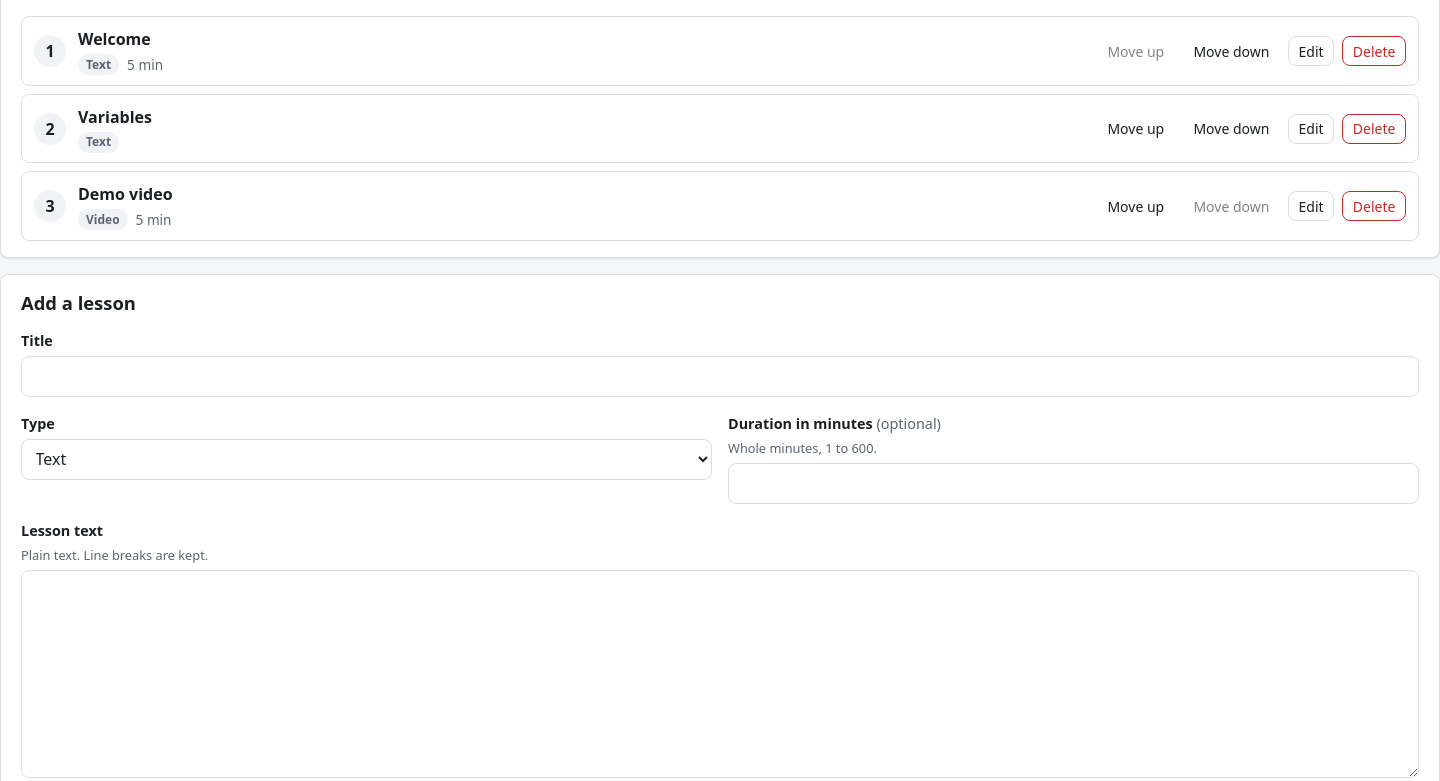
Test case: EditCoursePage › adds a valid video lesson
The width and height of the screenshot is (1440, 781).
(page scrolled)
In the field labelled "Title": [720, 377] box [21,356,1419,397], type "Generics"
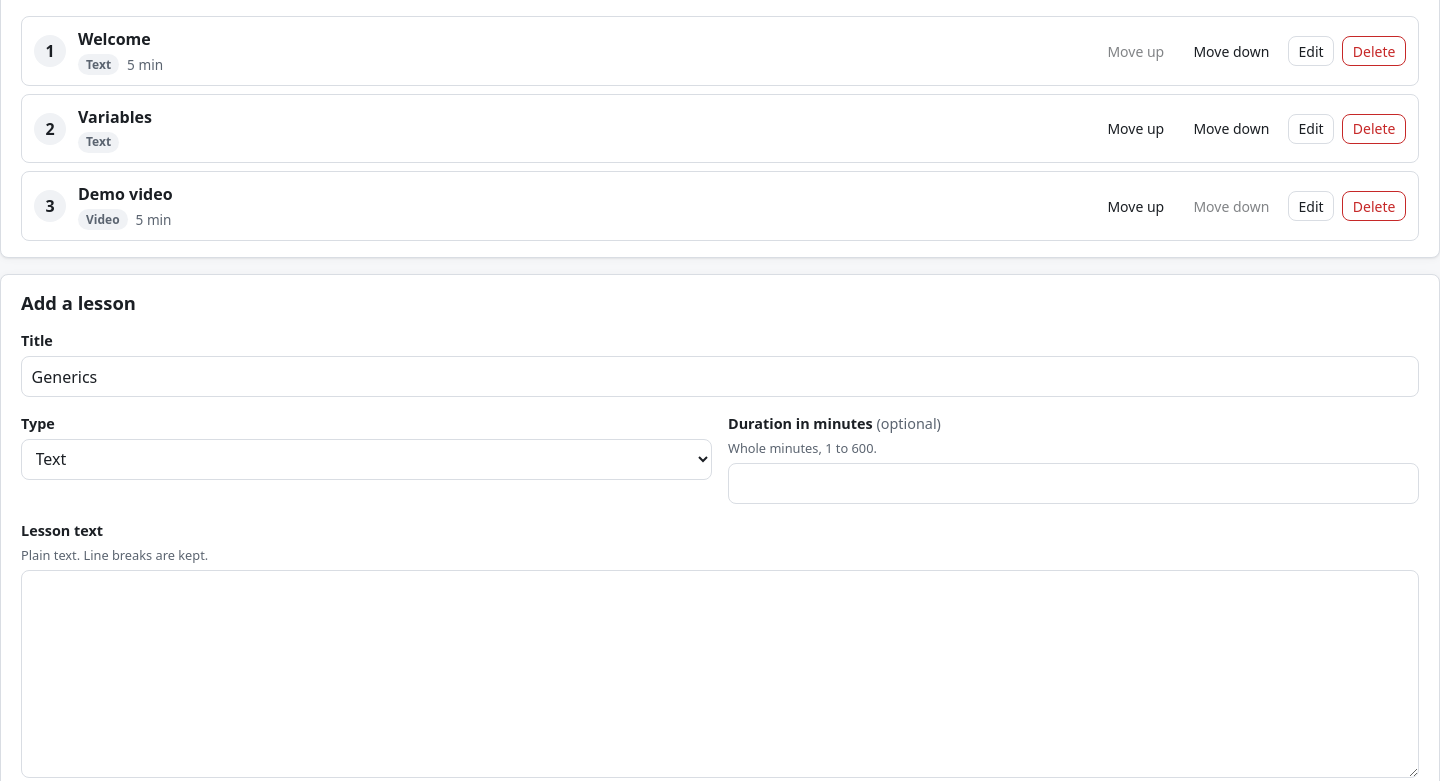
Select "Video" in the dropdown labelled "Type": [366, 459] box [21,439,712,480]
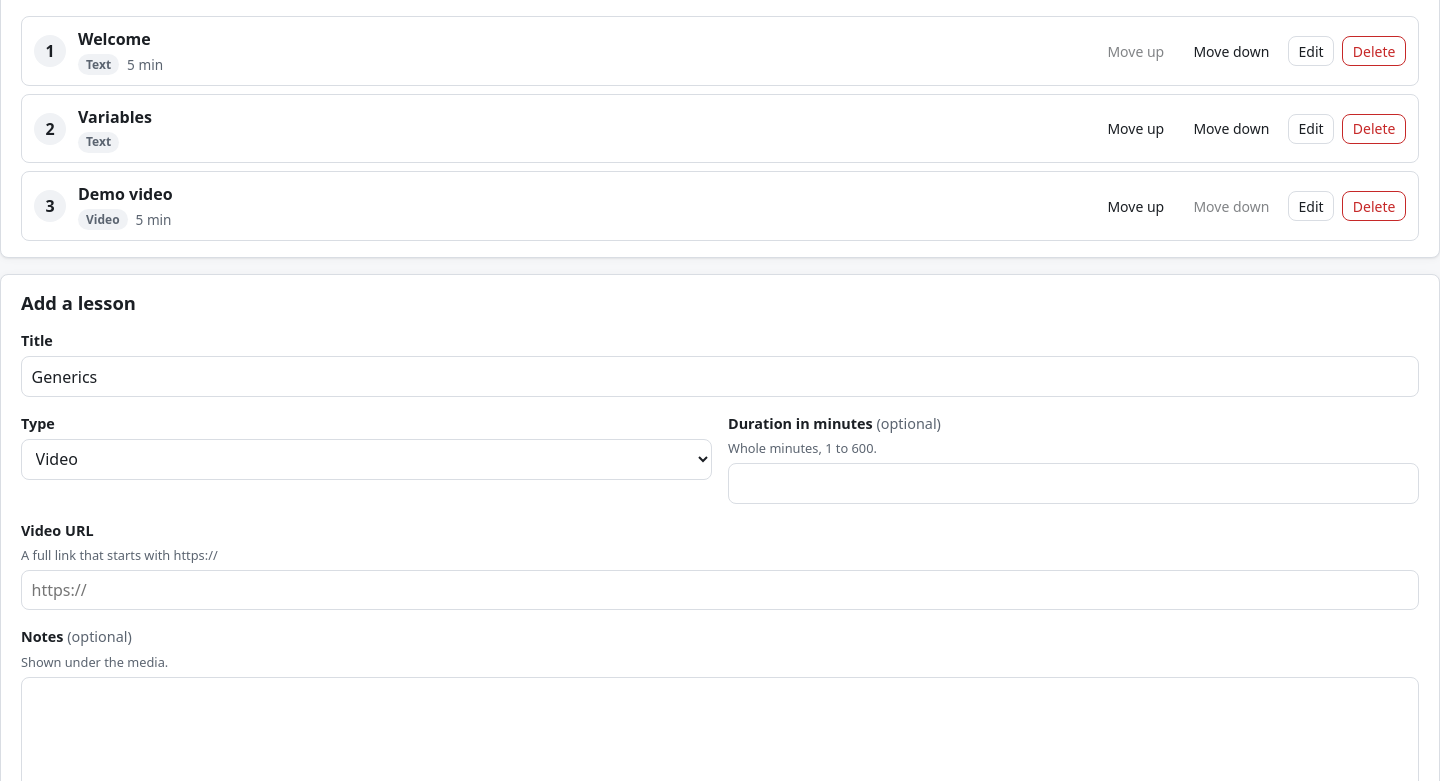
In the field labelled "Video URL": [720, 590] box [21,570,1419,610], type "https://example.com/clip.mp4"
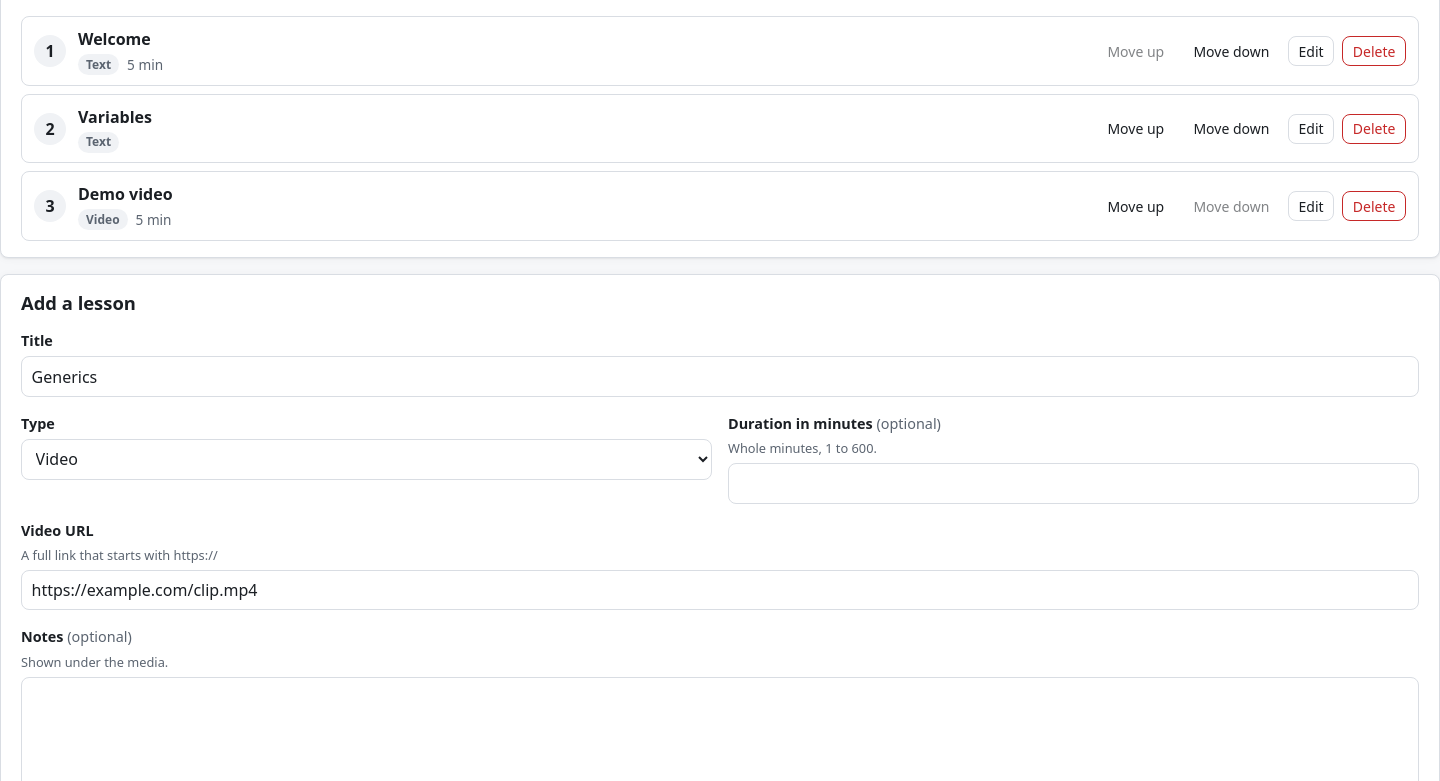
In the field labelled "Duration in minutes (optional)": [1074, 483] box [728,463,1419,504], type "12"
(page scrolled)
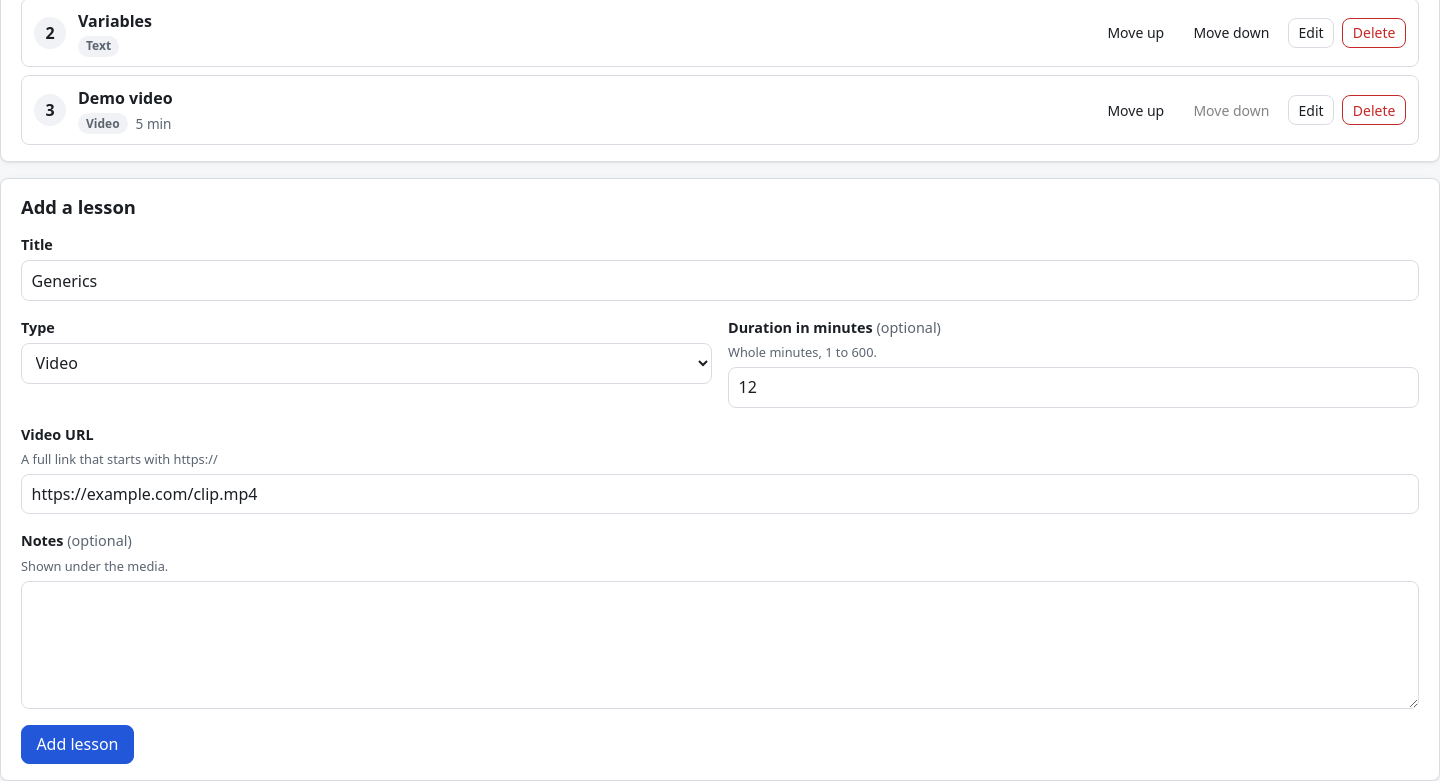
Click the button "Add lesson": [77, 744] box [21,725,134,764]
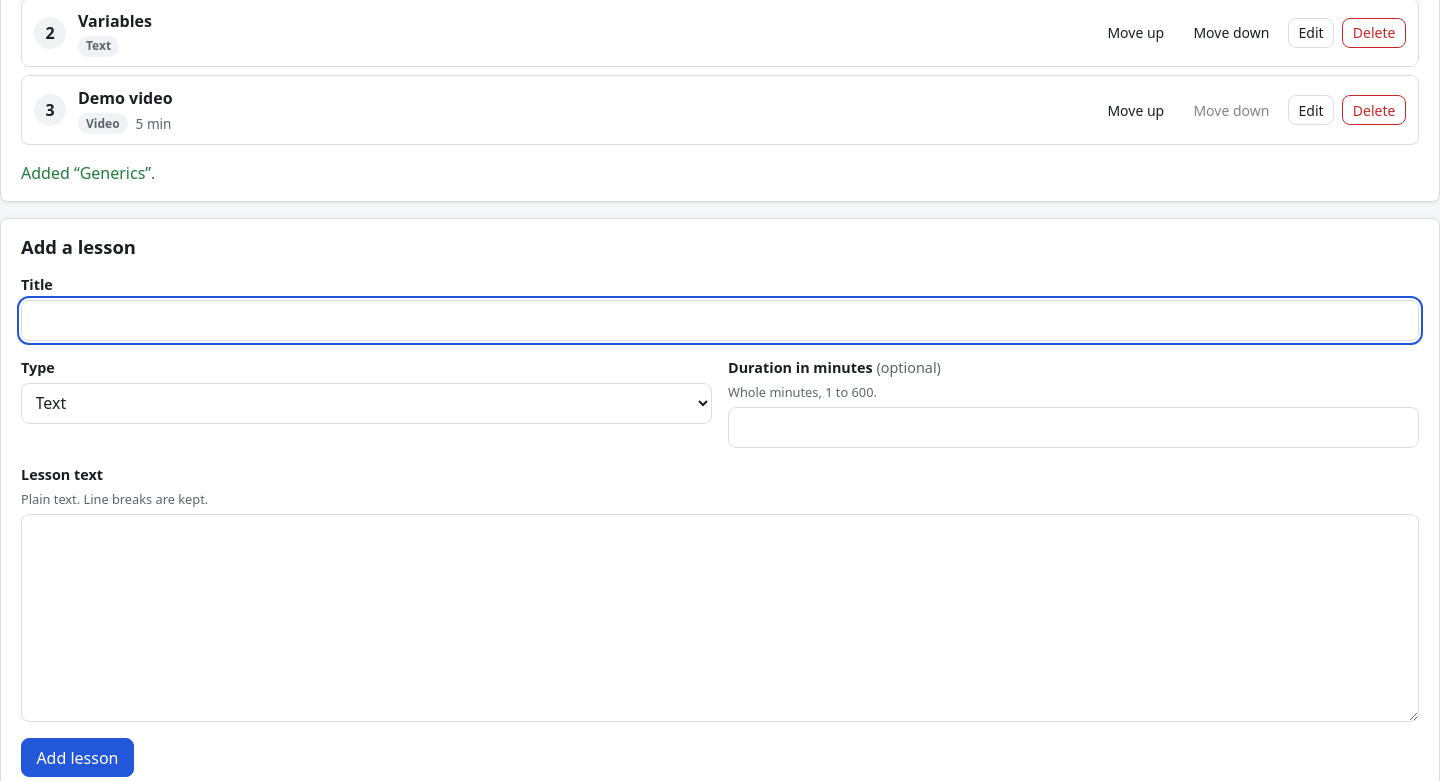
Check: the text "Added “Generics”." is shown, box [21,162,155,184]
Check: the field labelled "Title" is empty, box [21,300,1419,341]
